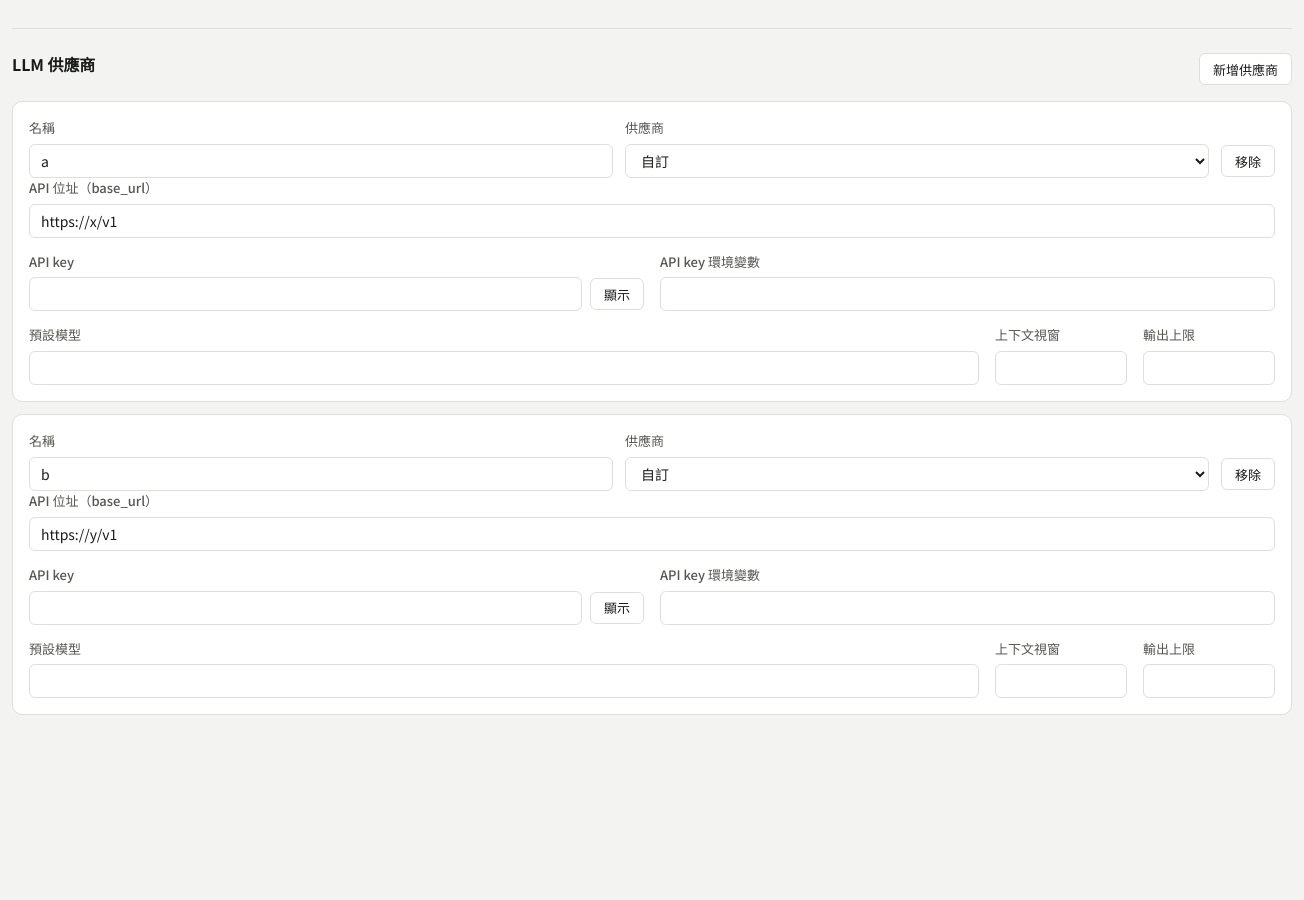
Test: duplicate names are invalid
Replace the text in the 2nd field labelled "名稱" with "a": (321, 474) 29,457 -> 613,491
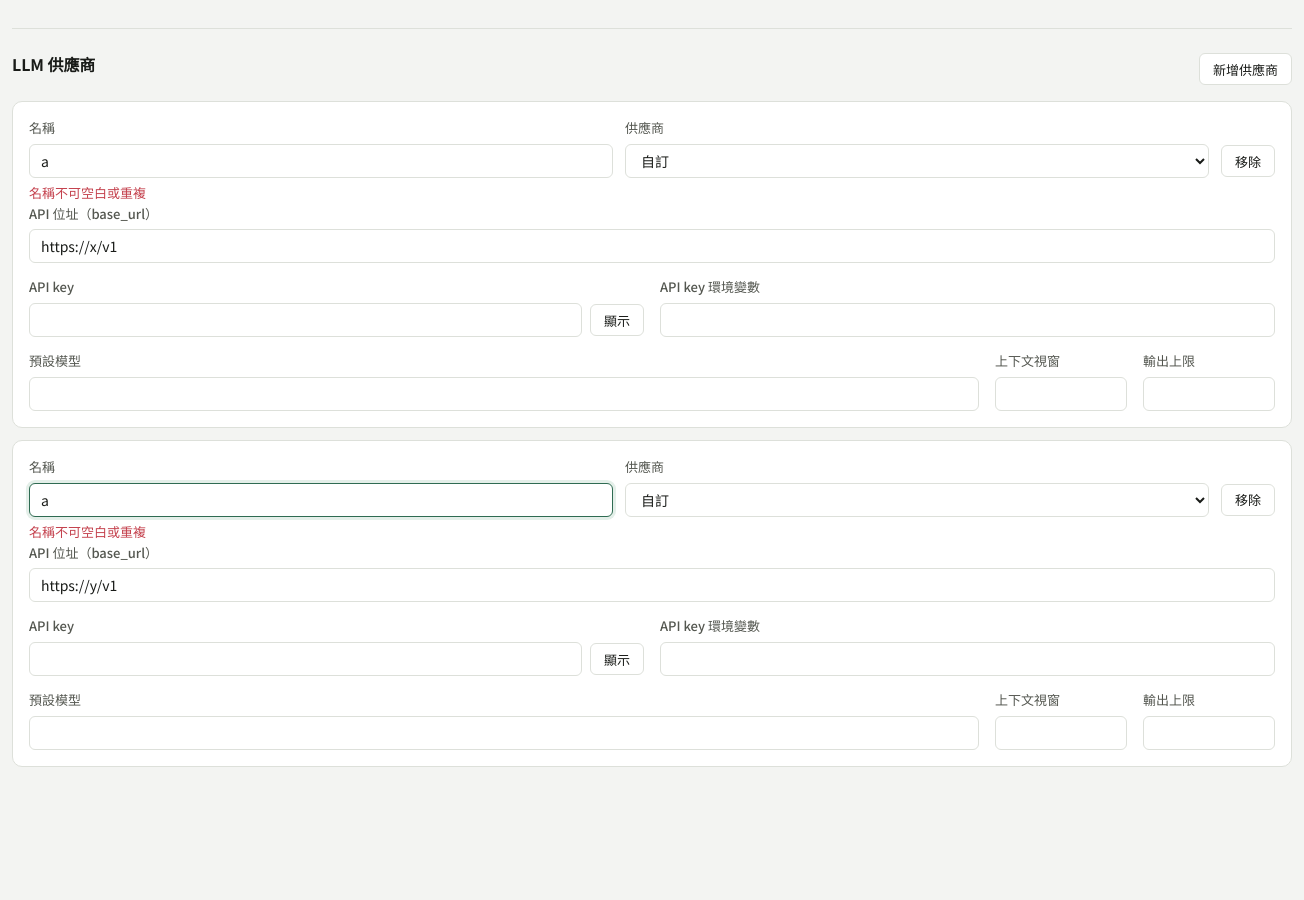
Expected: the 1st text "名稱不可空白或重複" is shown, 29,183 -> 146,202
